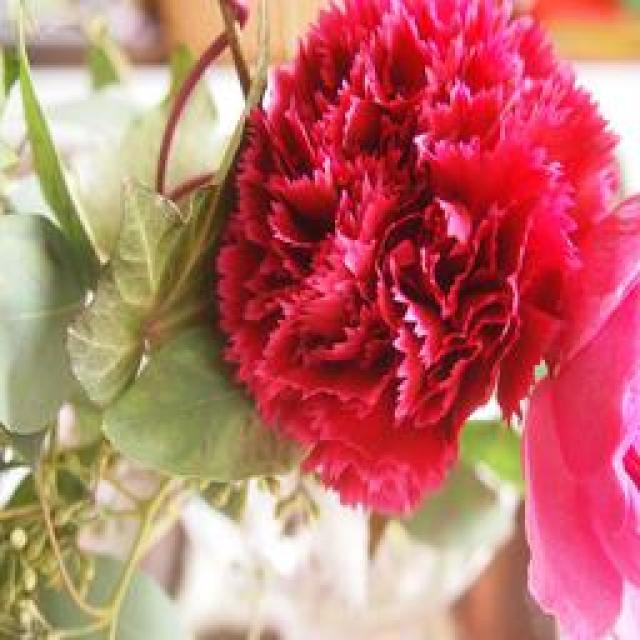carnation: (232, 0, 639, 442)
